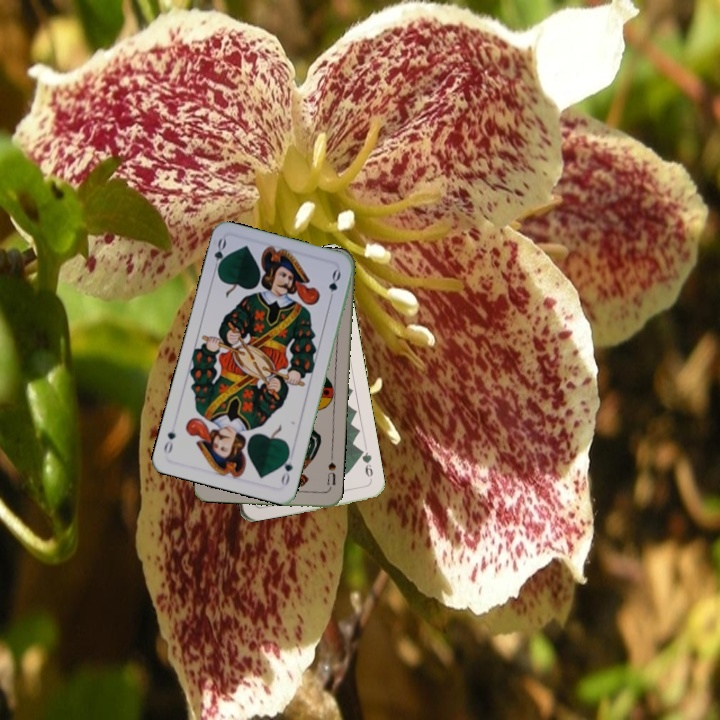G9: (356, 445, 376, 485)
GO: (209, 235, 229, 276), (277, 448, 296, 488)
SU: (323, 458, 339, 492)
